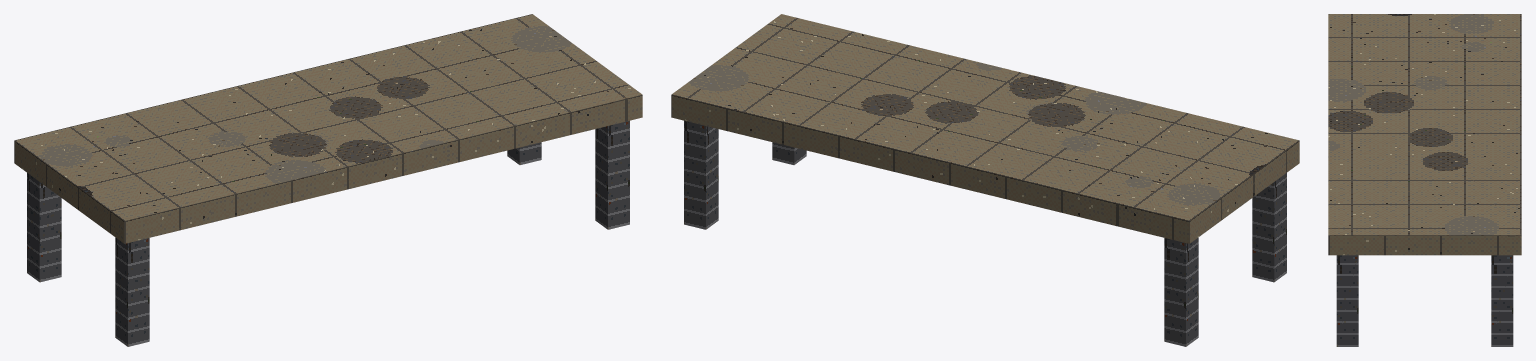
File: SM_Prop_Cot_01.glb
3 views of the same model, side by side, from view 1: azimuth 30°, elevation 25°; view 2: azimuth 150°, elevation 25°; view 3: azimuth 270°, elevation 25° (orthographic). The views are drawn at different scales.
Parts seen in each view (by area): view 1: SM_Prop_Cot_01; view 2: SM_Prop_Cot_01; view 3: SM_Prop_Cot_01.
Part boxes in pixels (x1=…): SM_Prop_Cot_01: x1=14, y1=14, x2=642, y2=346; SM_Prop_Cot_01: x1=671, y1=14, x2=1299, y2=346; SM_Prop_Cot_01: x1=1328, y1=14, x2=1521, y2=346.
Bounding box in the file's own units: 1.9 × 0.46 × 0.7.
1 material, 1 textured.
